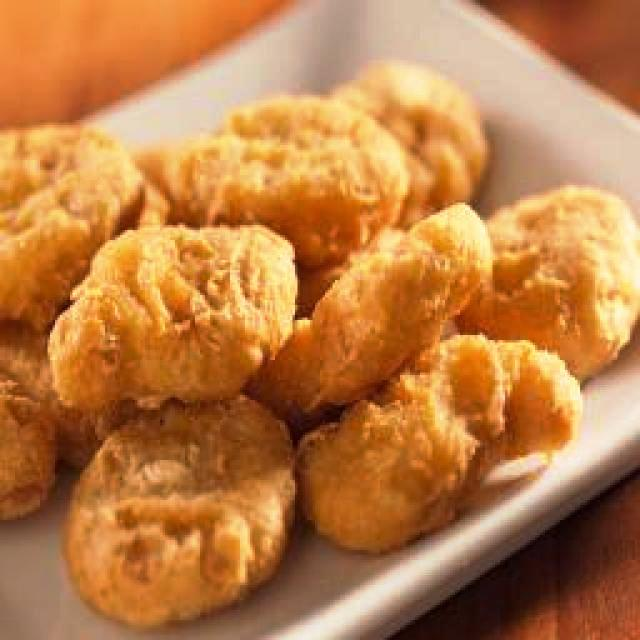chicken_nuggets: (0, 64, 640, 626)
